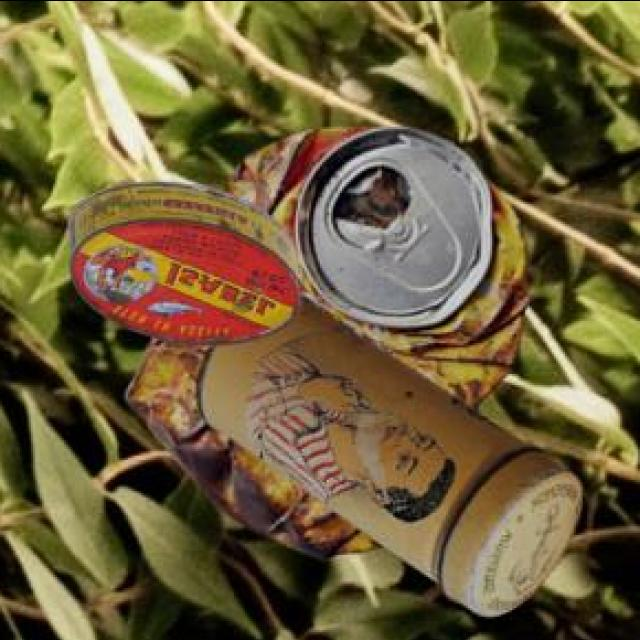logam: (129, 129, 533, 562), (200, 299, 586, 619), (72, 184, 306, 348)
